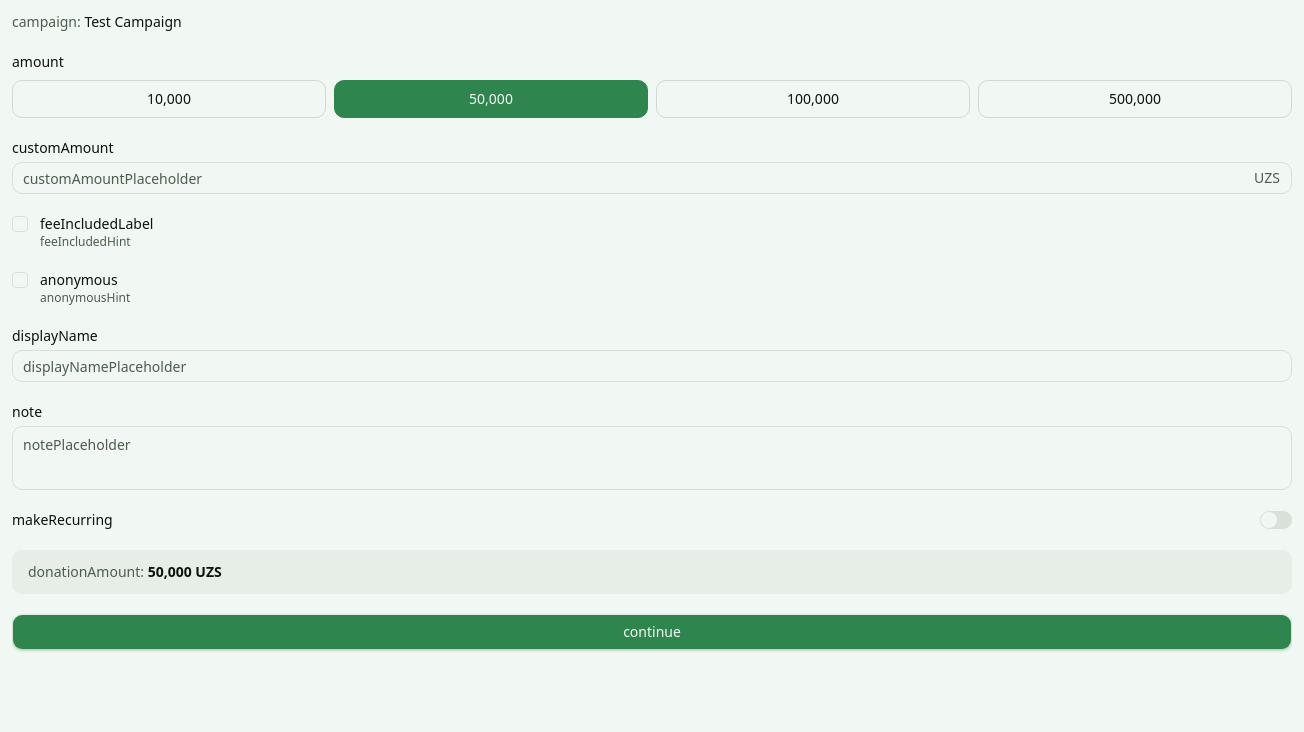
DonationAmountStep › shows error when amount is below minimum
The width and height of the screenshot is (1304, 732).
Type '100' - the input processes only digits
Type "100" into the field with id "custom-amount" at (652, 178), box [12,162,1292,194]
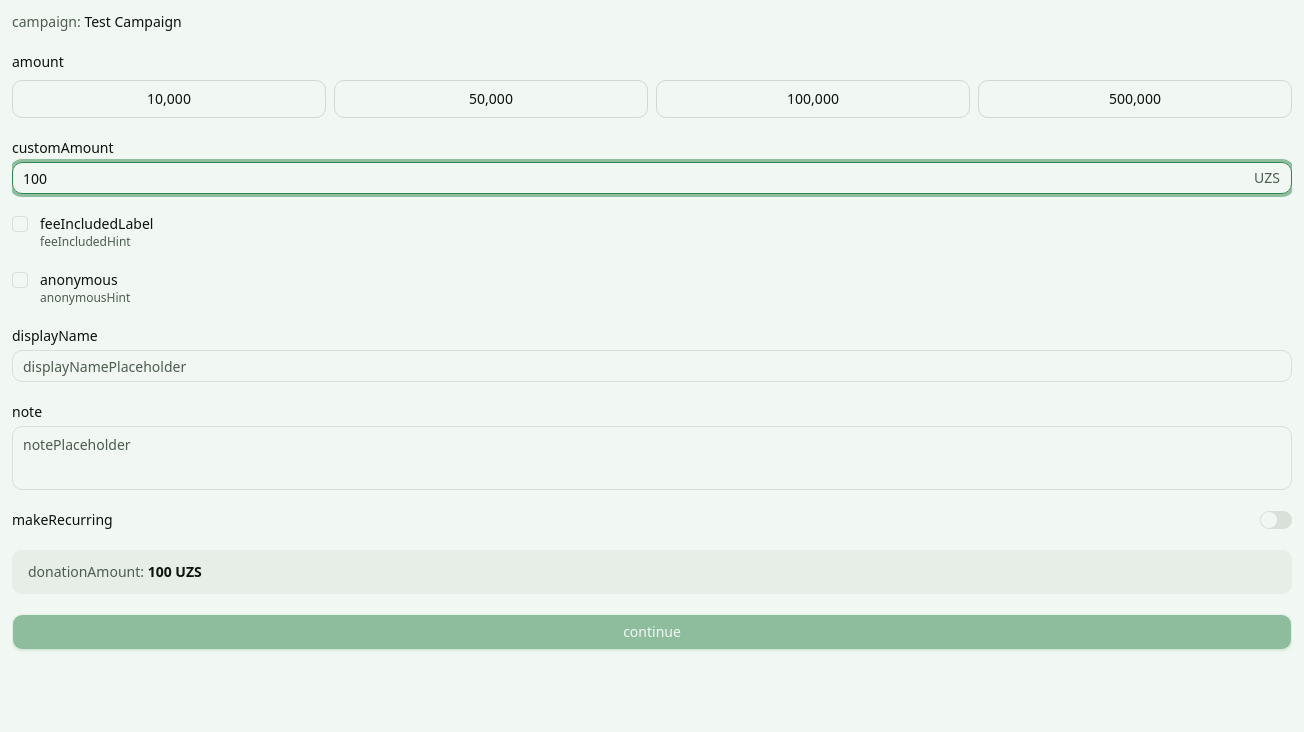
Result: the button "continue" is disabled at [12,614,1292,650]
